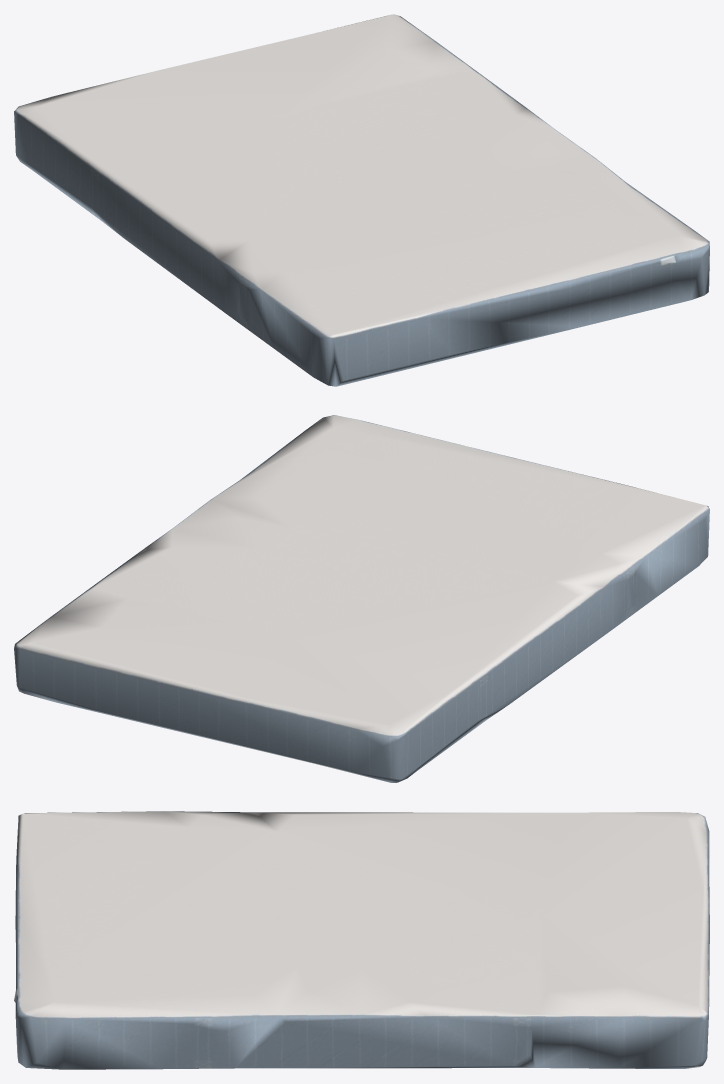
File: vestmarka-sprung-mattress-firm-light-blue-40451284.glb
The picture shows the model from 3 angles, top to bottom: view 1: azimuth 30°, elevation 25°; view 2: azimuth 150°, elevation 25°; view 3: azimuth 270°, elevation 25°; orthographic projection. The views are drawn at different scales.
Visible parts, largest first — view 1: model; view 2: model; view 3: model.
Part boxes in pixels (box(x1,y1,x2,y2)): model: box(14, 14, 709, 386); model: box(14, 415, 709, 782); model: box(14, 811, 709, 1069).
Bounding box in the file's own units: 1.41 × 0.1837 × 2.01.
Materials: 1 (1 with a texture image).
